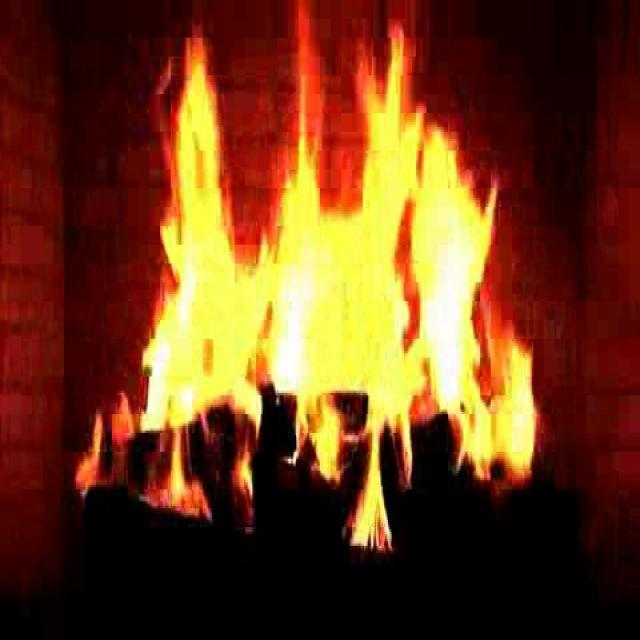fire: (148, 16, 534, 500)
